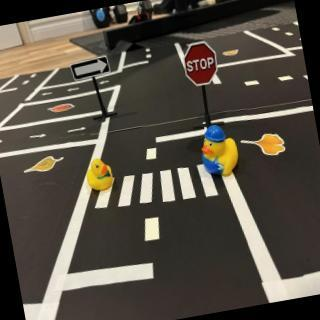duck_regular: (86, 158, 116, 193)
duck_specialty: (198, 122, 244, 182)
road_crosswalk: (85, 158, 223, 221)
road_oneway: (29, 131, 51, 142), (67, 126, 89, 136), (99, 78, 115, 89), (40, 91, 58, 100), (66, 86, 82, 95), (1, 138, 6, 149)
sign_oneway_right: (70, 58, 112, 83)
sign_stop: (184, 43, 221, 89)
